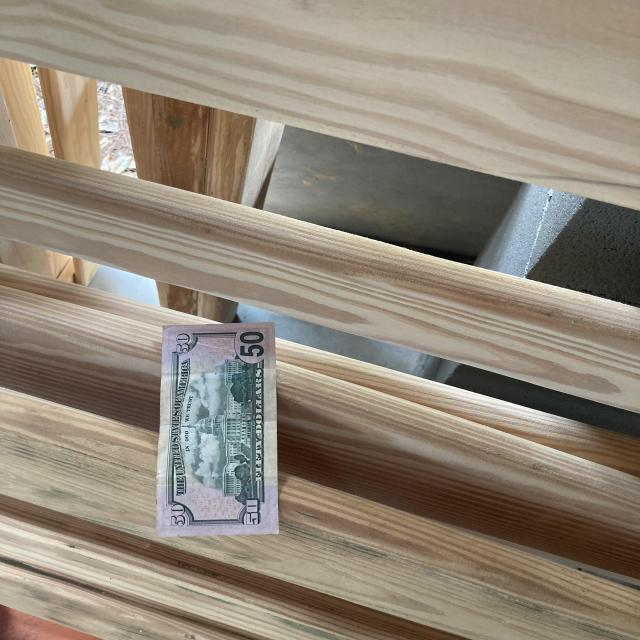fifty: (156, 322, 282, 536)
